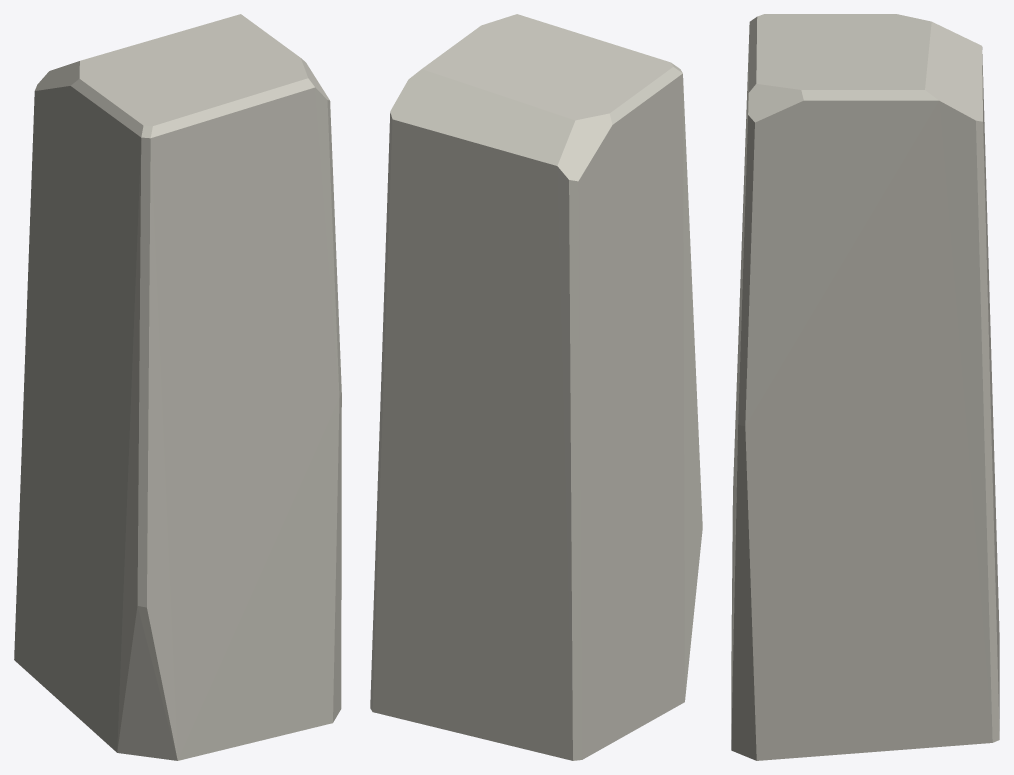
Rendered from Rock_Square_l_03.fbx.
3 views of the same model, side by side, from view 1: azimuth 30°, elevation 25°; view 2: azimuth 150°, elevation 25°; view 3: azimuth 270°, elevation 25° (orthographic). The views are drawn at different scales.
Visible parts, largest first — view 1: Rock_Square_l_03; view 2: Rock_Square_l_03; view 3: Rock_Square_l_03.
Part boxes in pixels (x1,y1,x2,y2): Rock_Square_l_03: (14,14,341,760); Rock_Square_l_03: (370,14,702,760); Rock_Square_l_03: (731,14,999,760).
Bounding box in the file's own units: 1.37 × 3.95 × 1.45.
